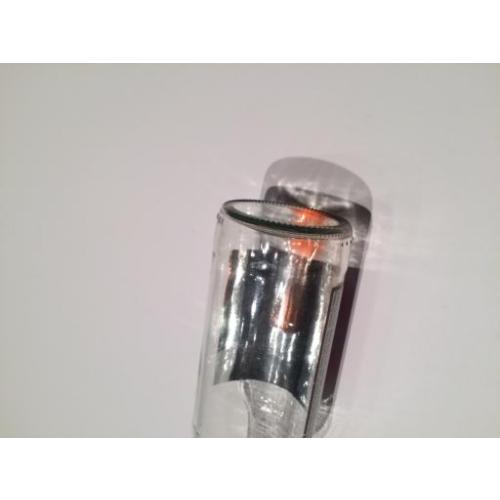glass: (188, 198, 354, 439)
